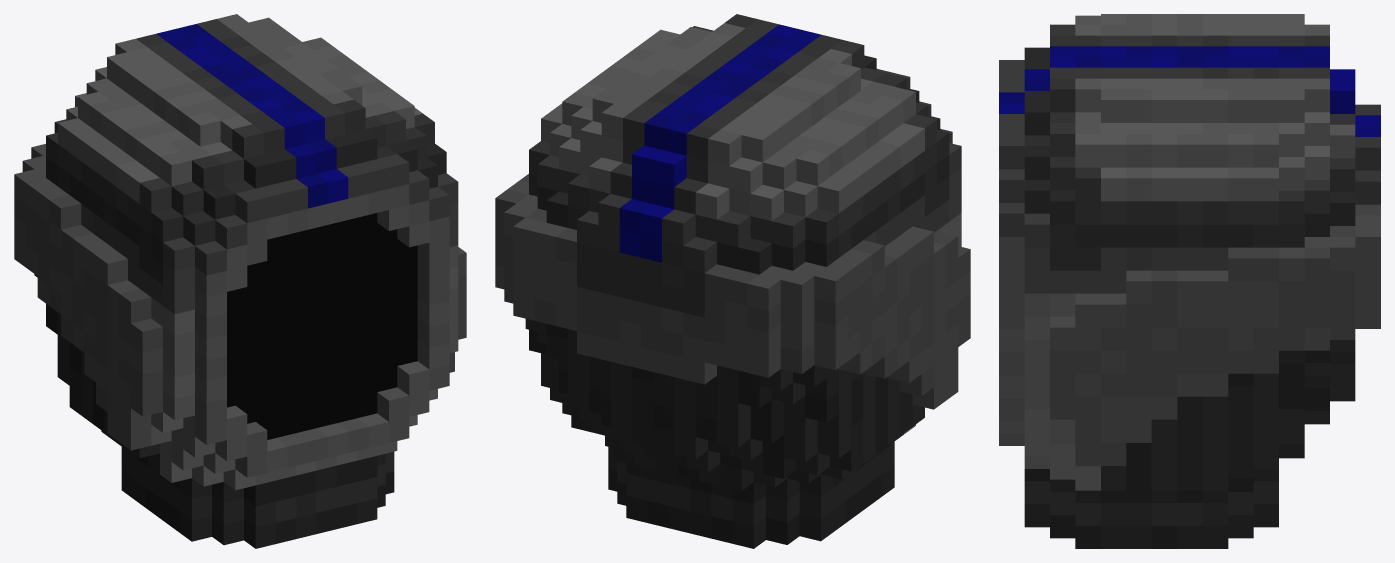
File: Simple Charapter-8-Cabeza.obj
The picture shows the model from 3 angles, left to right: view 1: azimuth 30°, elevation 25°; view 2: azimuth 150°, elevation 25°; view 3: azimuth 270°, elevation 25°; orthographic projection. The views are drawn at different scales.
Visible parts, largest first — view 1: Cabeza; view 2: Cabeza; view 3: Cabeza.
Part boxes in pixels (<box>): Cabeza: <box>14,14,466,548</box>; Cabeza: <box>495,14,970,548</box>; Cabeza: <box>999,14,1380,548</box>.
Size of the model in its own units: 1.6 by 1.9 by 1.5.
1 material, 1 textured.
